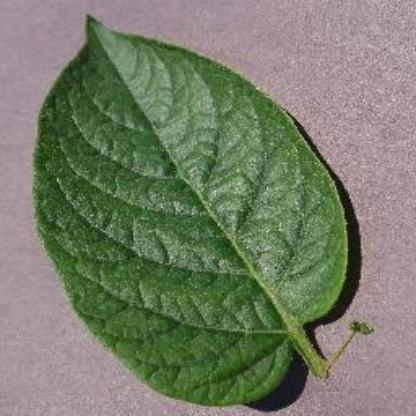Healthy-plant: (32, 9, 388, 410)
